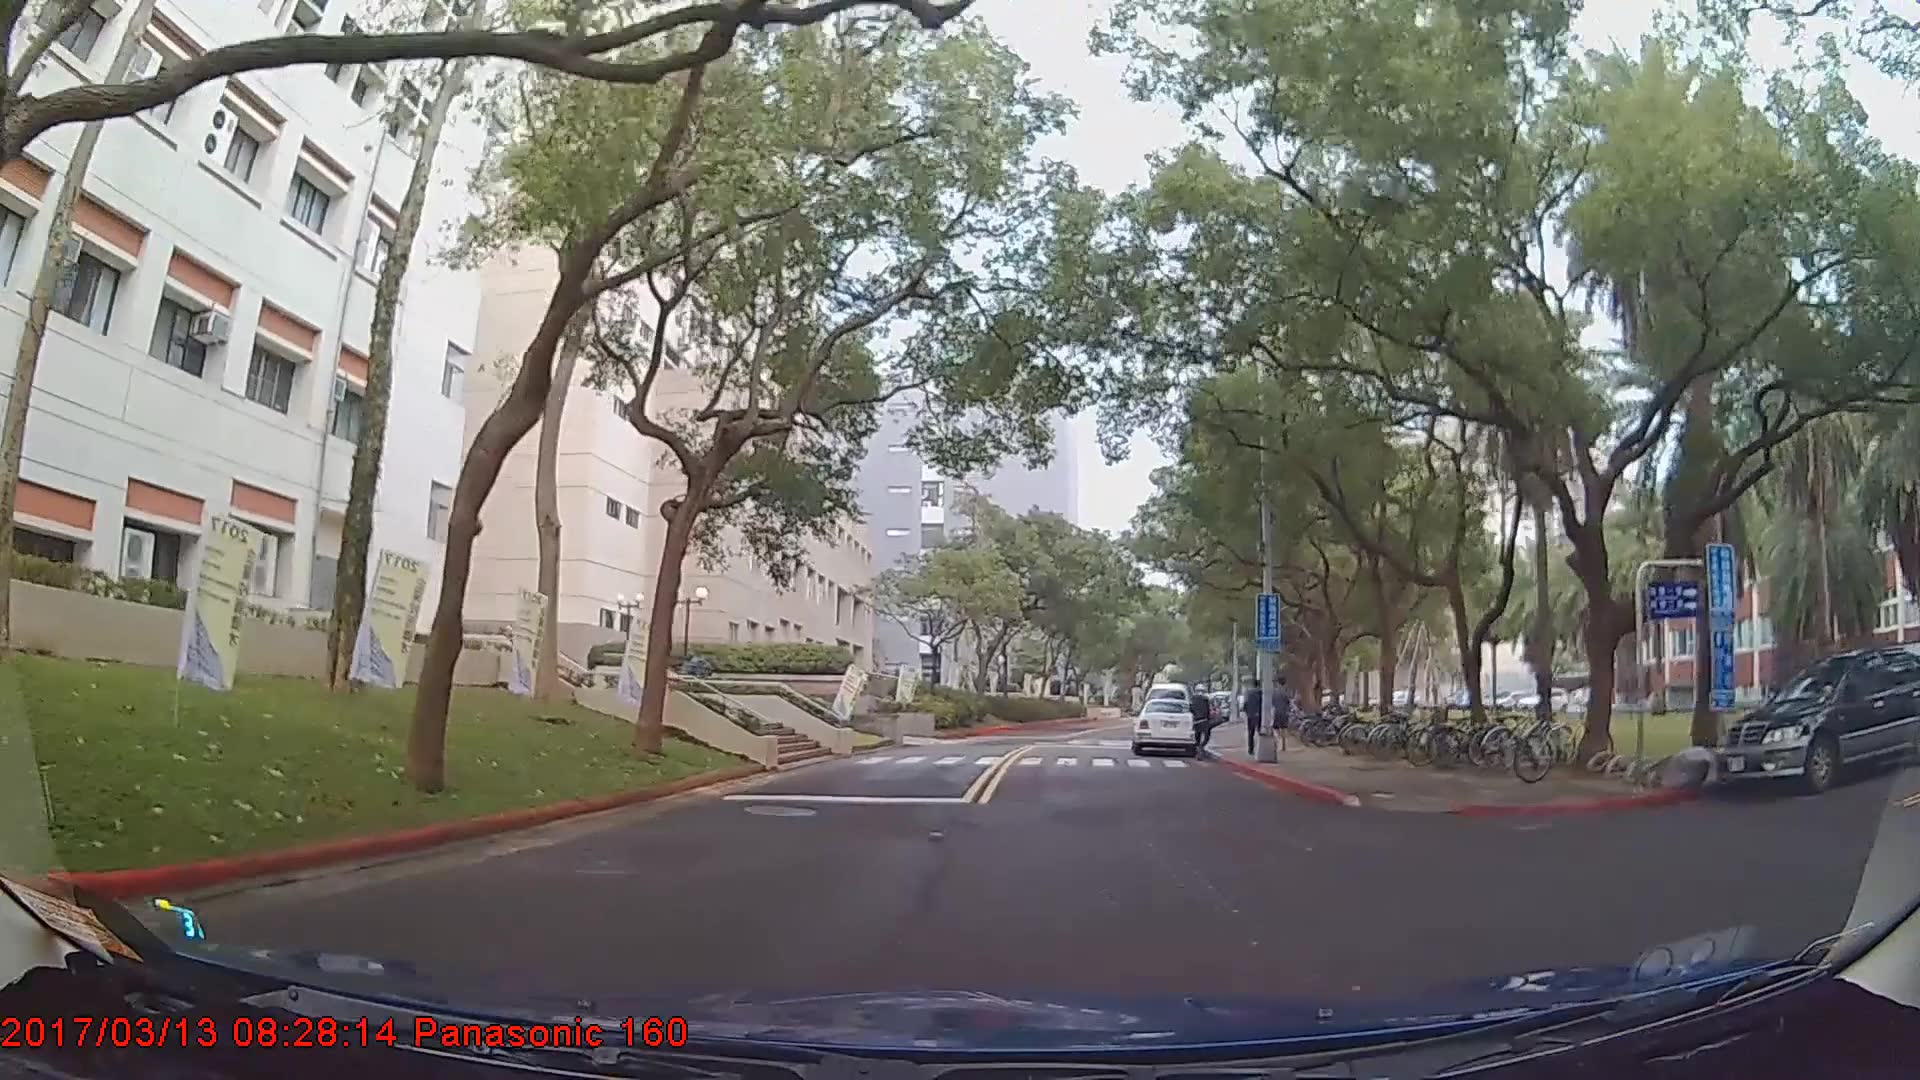pedestrian: (1243, 684, 1270, 757), (1188, 684, 1212, 759)
vehicle: (1716, 643, 1920, 794), (1130, 696, 1201, 757)
